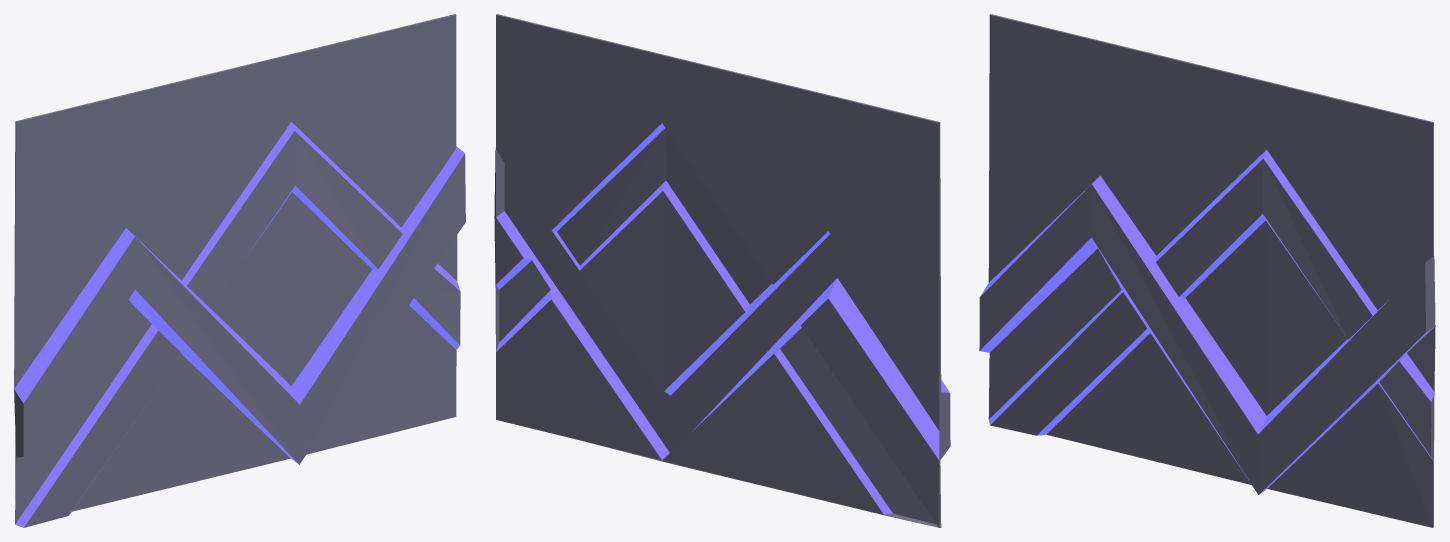
The model's file is door.fbx.
3 views of the same model, side by side, from view 1: azimuth 30°, elevation 25°; view 2: azimuth 150°, elevation 25°; view 3: azimuth 330°, elevation 25° (orthographic).
Parts seen in each view (by area): view 1: Plane, Plane.001; view 2: Plane, Plane.001; view 3: Plane, Plane.001.
Boxes of the visible parts, <box> form: Plane: <box>14,121,465,527</box>; Plane.001: <box>16,14,456,386</box>; Plane: <box>494,122,950,527</box>; Plane.001: <box>496,14,939,392</box>; Plane: <box>979,15,1435,527</box>; Plane.001: <box>990,14,1433,415</box>.
Bounding box in the file's own units: 227 × 197 × 8.9.
